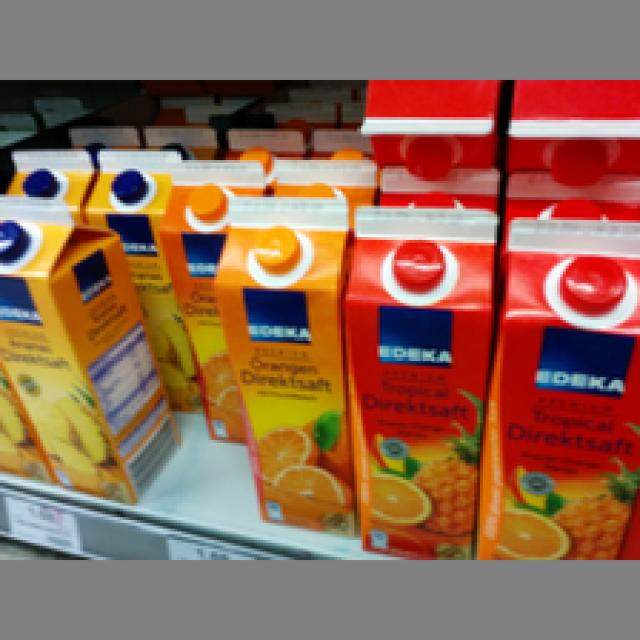groceries: (337, 203, 497, 560), (0, 191, 180, 506), (472, 214, 628, 557), (214, 192, 354, 532)
